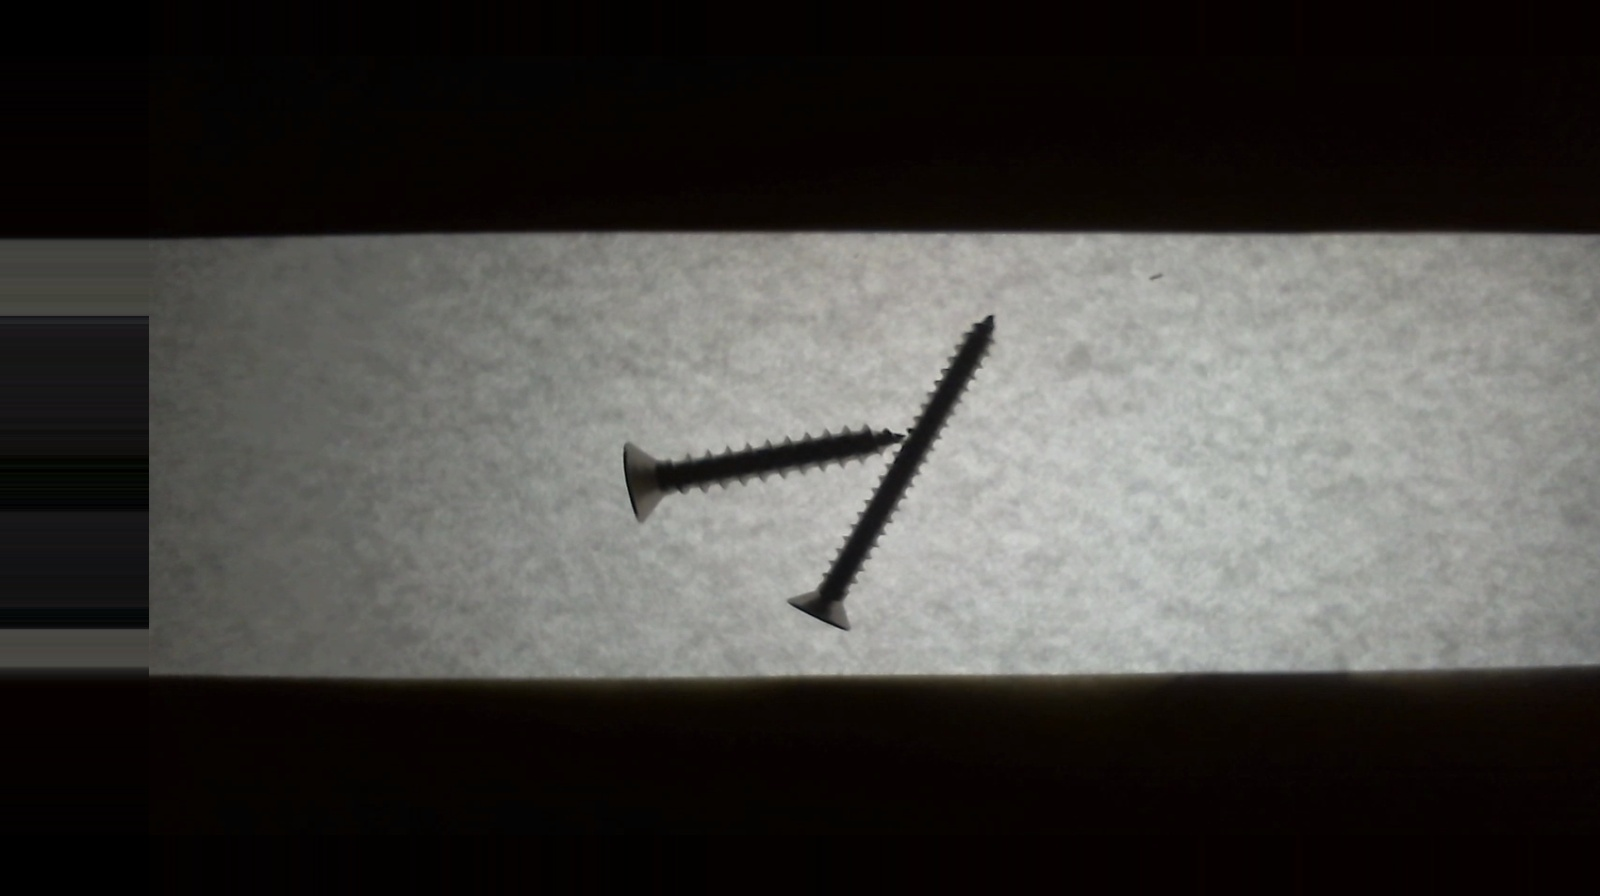S001: (607, 418, 918, 528)
S002: (779, 308, 1009, 637)
